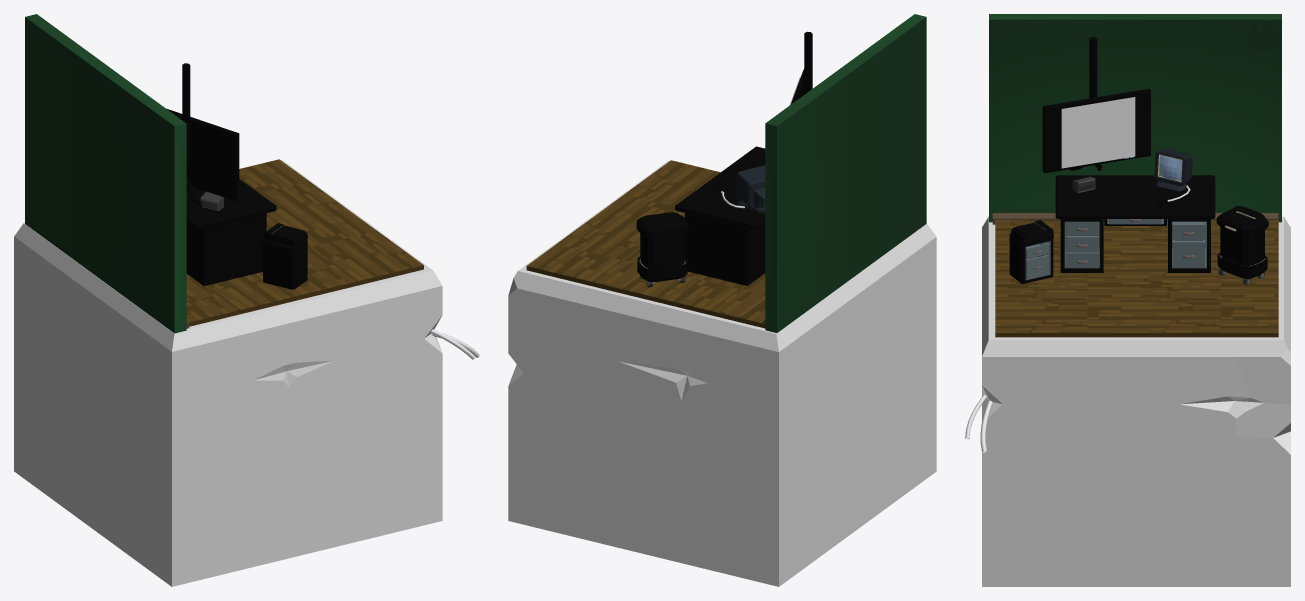
Rendered from TLD.fbx.
3 views of the same model, side by side, from view 1: azimuth 30°, elevation 25°; view 2: azimuth 150°, elevation 25°; view 3: azimuth 270°, elevation 25° (orthographic). The views are drawn at different scales.
Visible parts, largest first — view 1: Cube.045, Cube.043, Cube.040, Cube.011, TV, Cube.010, Scanner, Cylinder.011; view 2: Cube.045, Cube.043, Cube.040, Cube.012, Cube.010, Shredder, Cube.042, Puter, Cube.041; view 3: Cube.045, Cube.043, Cube.040, Cube.010, Plane, TV, Drawr, Shredder, Cube.042, Scanner, DrawrTall, Cube.011 (+8 smaller).
Boxes of the visible parts, <box> form: Cube.045: <box>14,160,442,586</box>; Cube.043: <box>25,14,186,333</box>; Cube.040: <box>186,159,423,326</box>; Cube.011: <box>186,213,266,285</box>; TV: <box>166,108,239,201</box>; Cube.010: <box>186,179,276,230</box>; Scanner: <box>263,238,307,289</box>; Cylinder.011: <box>182,63,190,165</box>; Cube.045: <box>508,160,936,586</box>; Cube.043: <box>765,14,926,332</box>; Cube.040: <box>526,160,765,328</box>; Cube.012: <box>685,213,765,285</box>; Cube.010: <box>675,146,765,229</box>; Shredder: <box>640,233,684,268</box>; Cube.042: <box>636,212,688,237</box>; Puter: <box>736,165,765,207</box>; Cube.041: <box>637,256,687,281</box>; Cube.045: <box>982,216,1290,586</box>; Cube.043: <box>989,14,1281,222</box>; Cube.040: <box>995,220,1278,337</box>; Cube.010: <box>1055,175,1215,218</box>; Plane: <box>1061,97,1135,168</box>; TV: <box>1042,88,1150,173</box>; Drawr: <box>1066,221,1098,268</box>; Shredder: <box>1220,226,1264,266</box>; Cube.042: <box>1216,205,1268,235</box>; Scanner: <box>1009,233,1053,283</box>; DrawrTall: <box>1172,240,1205,268</box>; Cube.011: <box>1060,219,1103,272</box>.
Size of the model in its own units: 402 by 576 by 375.
